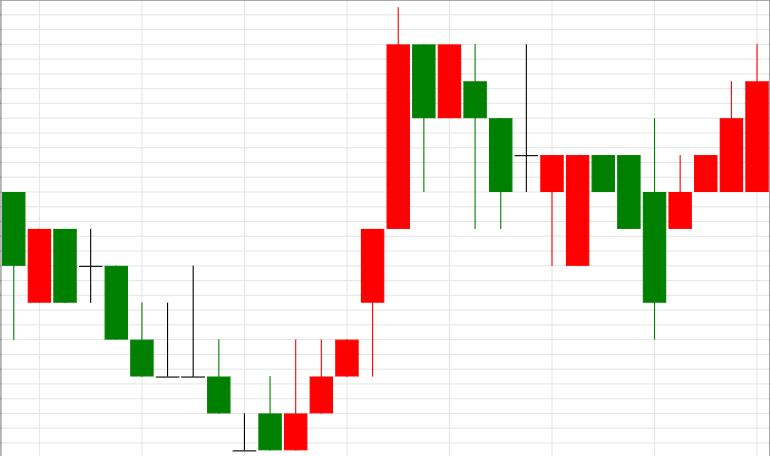inverse_hammer_rise: (78, 228, 307, 452)
